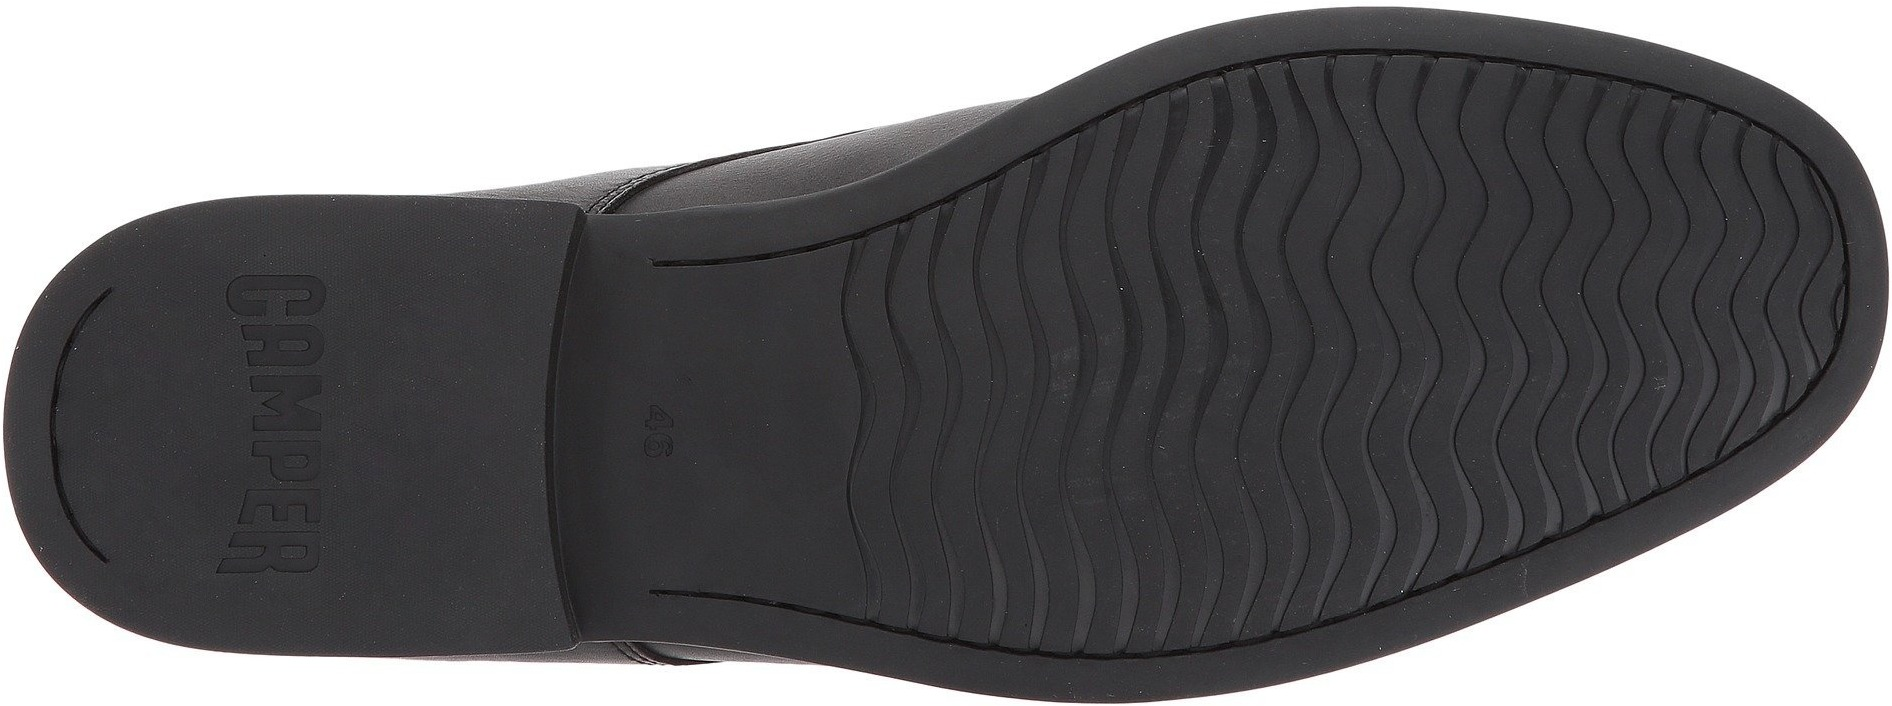chevron: (1119, 105, 1481, 475), (1487, 126, 1786, 437), (843, 234, 1119, 496)
other: (360, 221, 551, 405), (70, 351, 216, 495)
text: (224, 389, 357, 519), (224, 259, 357, 367), (208, 523, 357, 605)
